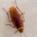cockroach: (8, 5, 24, 32)
